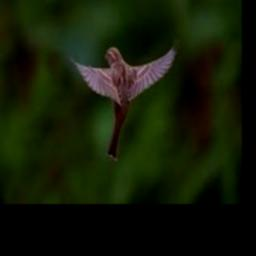Sparrow: (67, 39, 179, 161)
